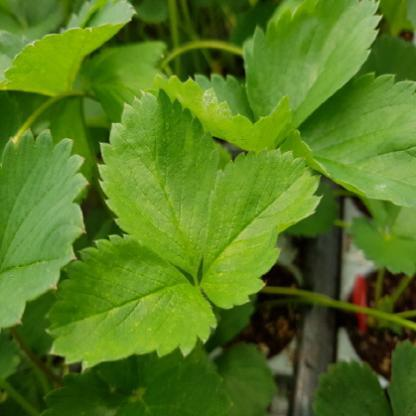Strawberry_Powdery_Mildew_Leaf: (143, 73, 292, 152)
